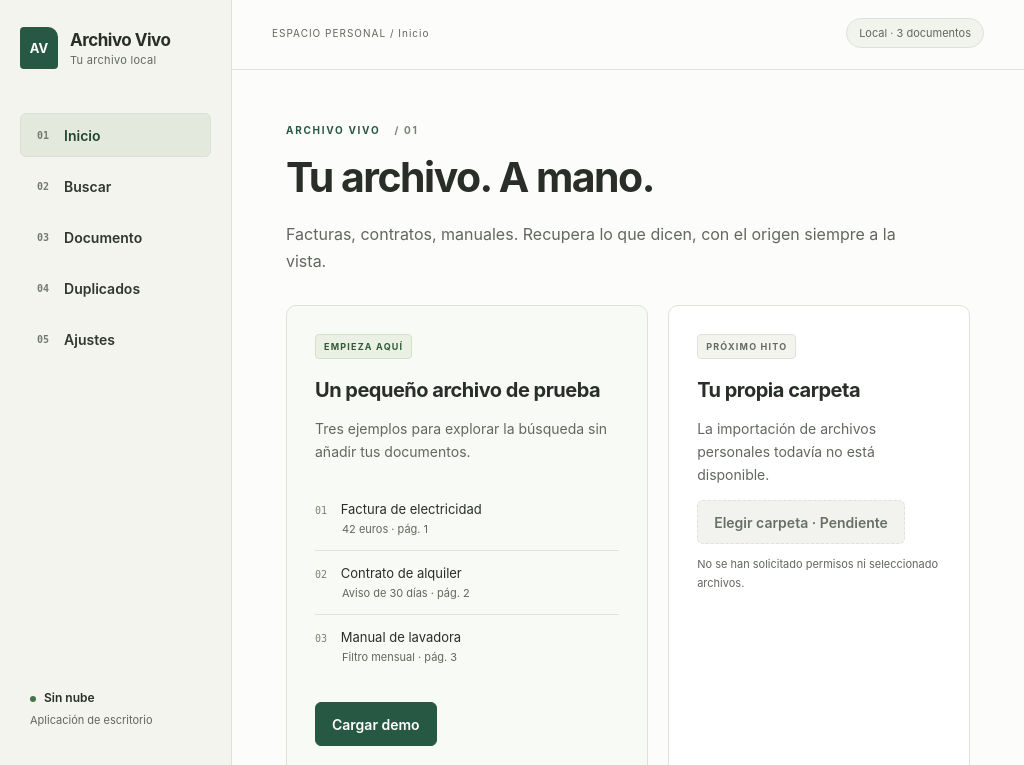
Test case: pide confirmación modal dentro de la aplicación nativa
Click the button "05 Ajustes": [116, 339] box [20, 317, 211, 361]
(page scrolled)
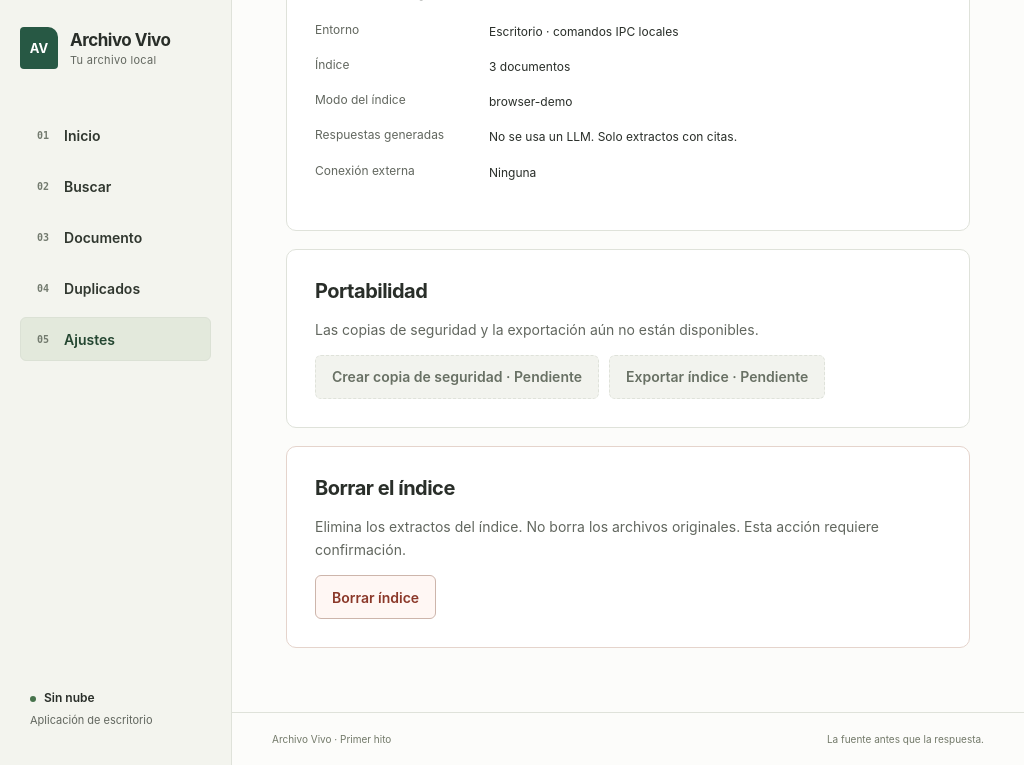
Click the button "Borrar índice": [376, 597] box [315, 575, 436, 619]
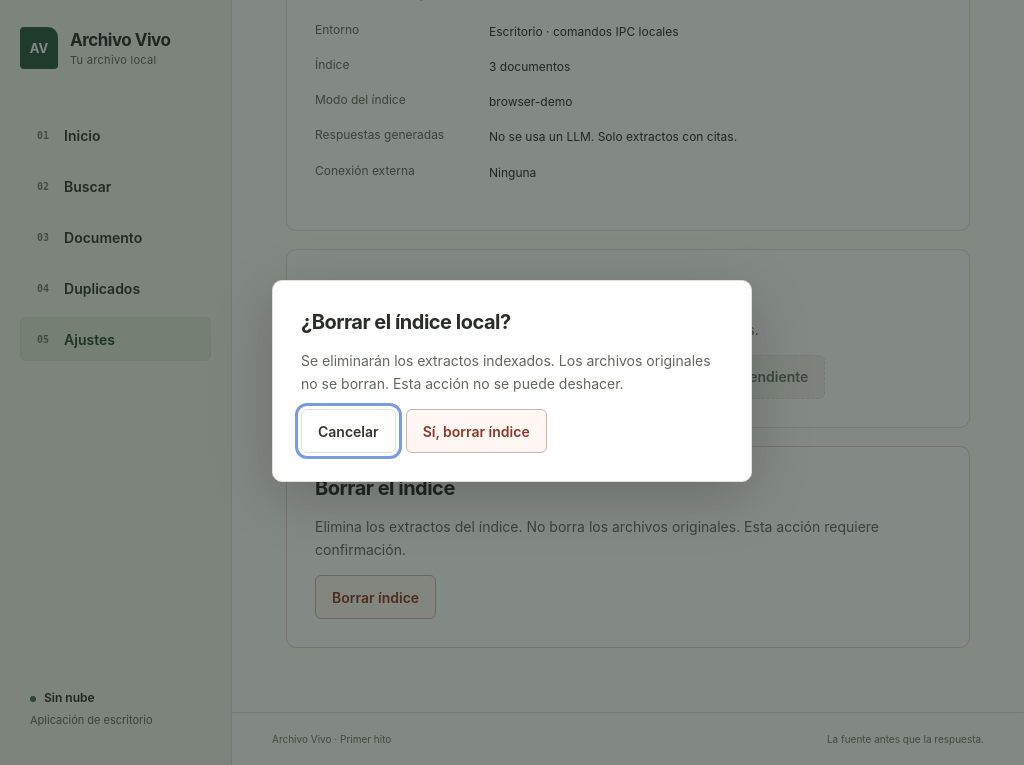
Expected: the dialog "¿Borrar el índice local?" is shown, [272, 280, 752, 482]
Click the button "Cancelar": [348, 431] box [301, 409, 396, 453]
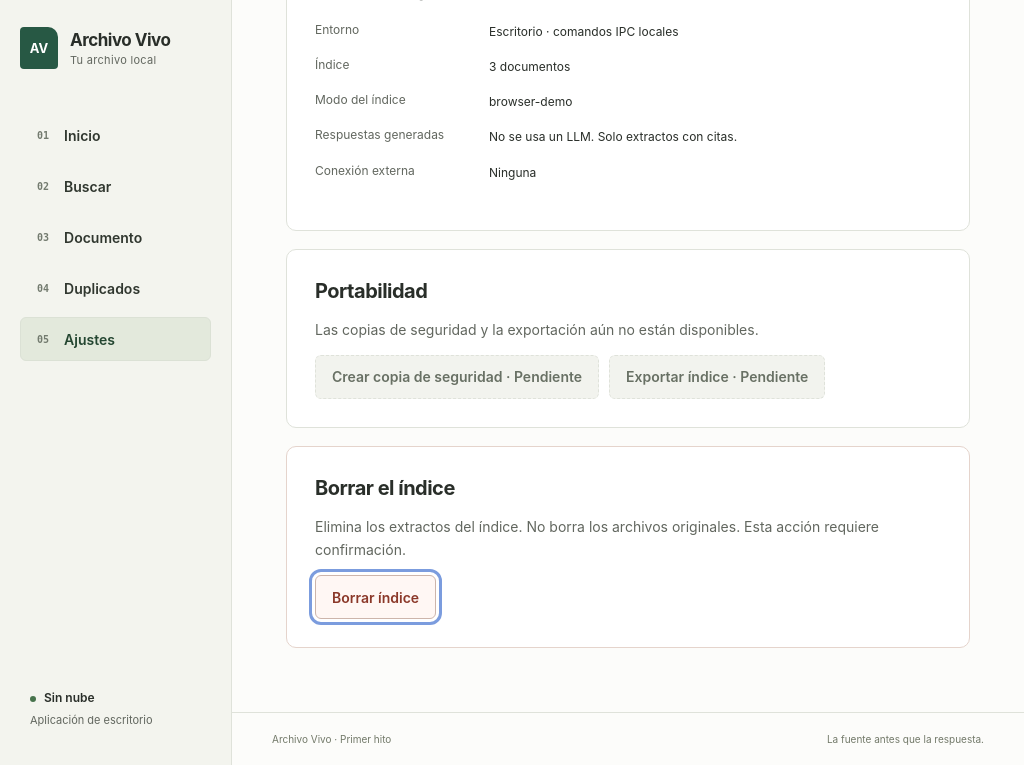
Click the button "Borrar índice": [376, 597] box [315, 575, 436, 619]
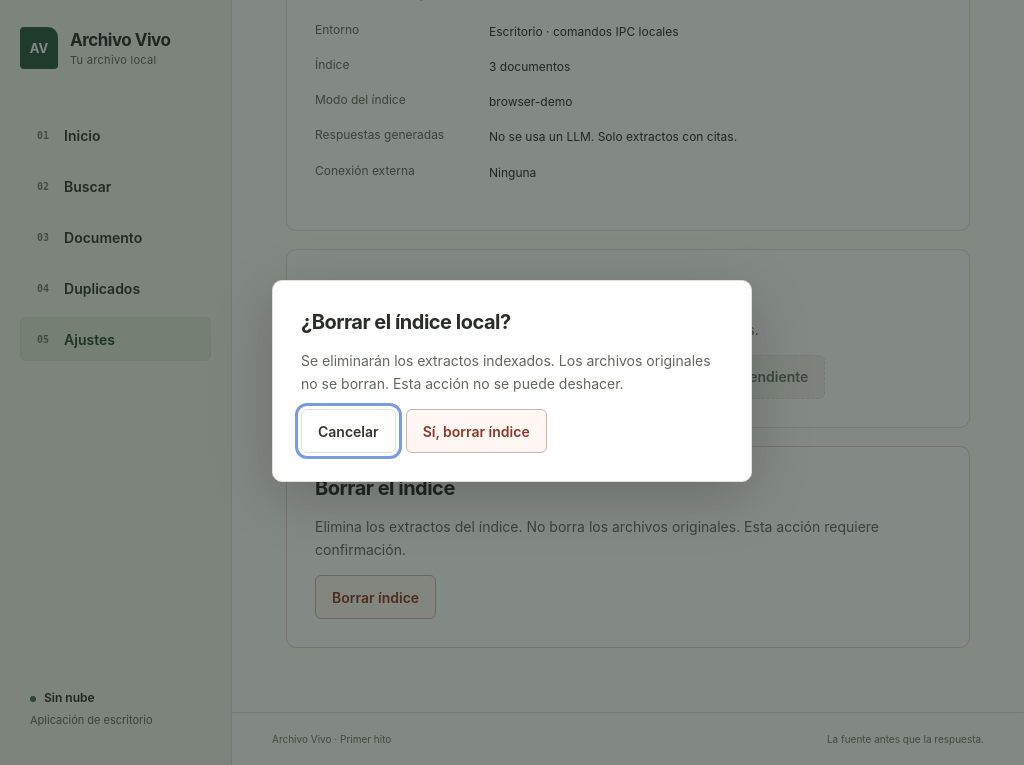
Click the button "Sí, borrar índice": [476, 431] box [406, 409, 547, 453]
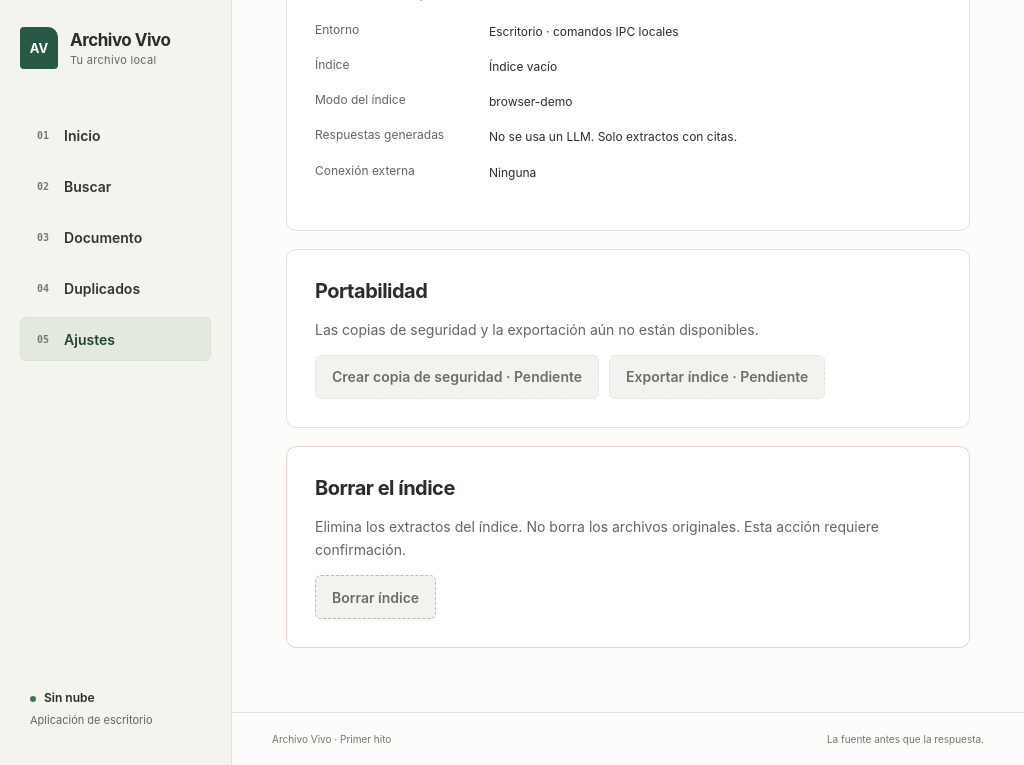
Expected: the text "Índice vacío" is shown, [489, 59, 557, 74]
